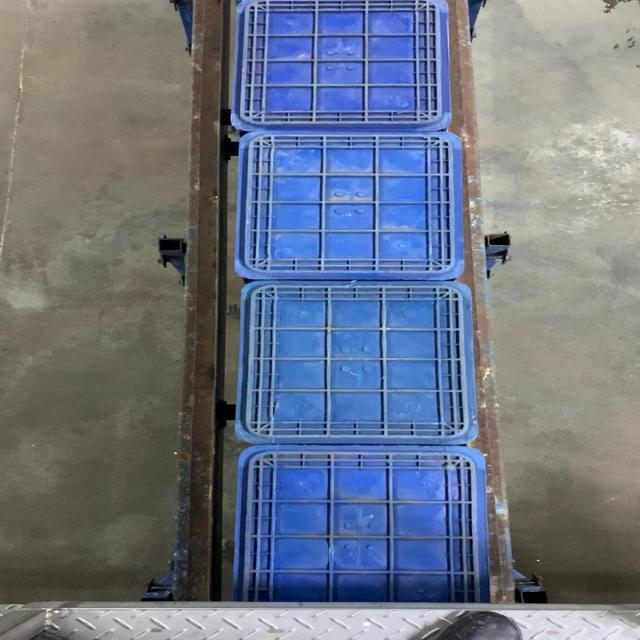Box: (237, 282, 479, 444), (231, 132, 467, 282), (230, 1, 453, 131)
